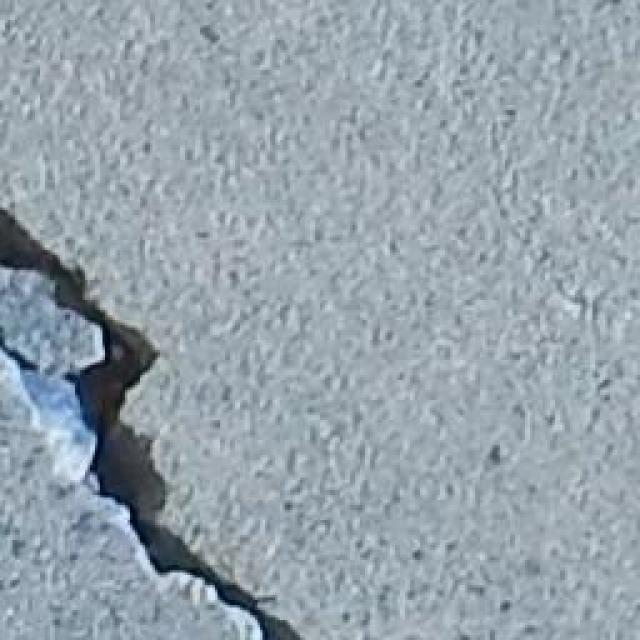concrete-crack: (0, 203, 317, 640)
